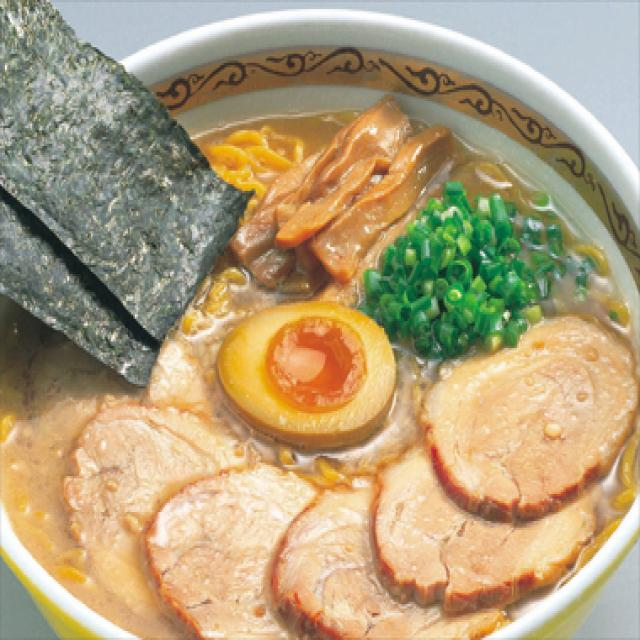面条主食: (0, 99, 632, 633)
